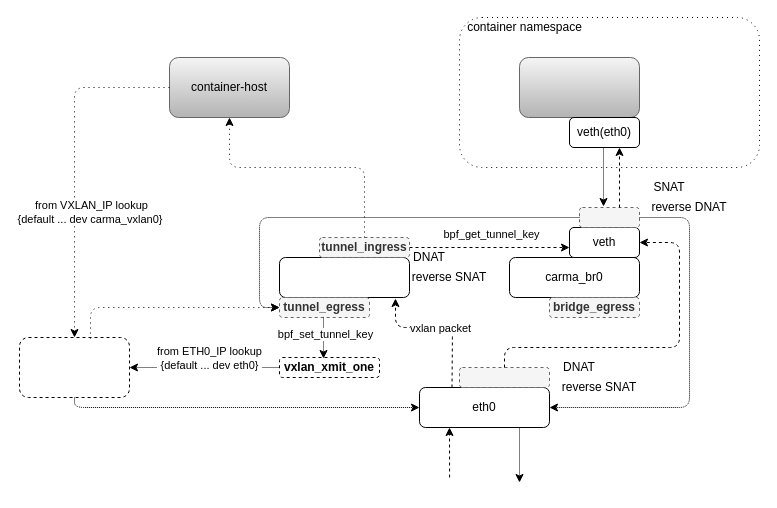
This 777x508 diagram has some shape labels left out. The shapes that lost their labels are listed below. From the top down, each one's centre as x and y in pixels, then its label:
the point at 579,87: container-bridge
the point at 609,217: from_lxc
the point at 344,277: carma_vxlan0
the point at 74,367: routing
the point at 504,377: ingress
